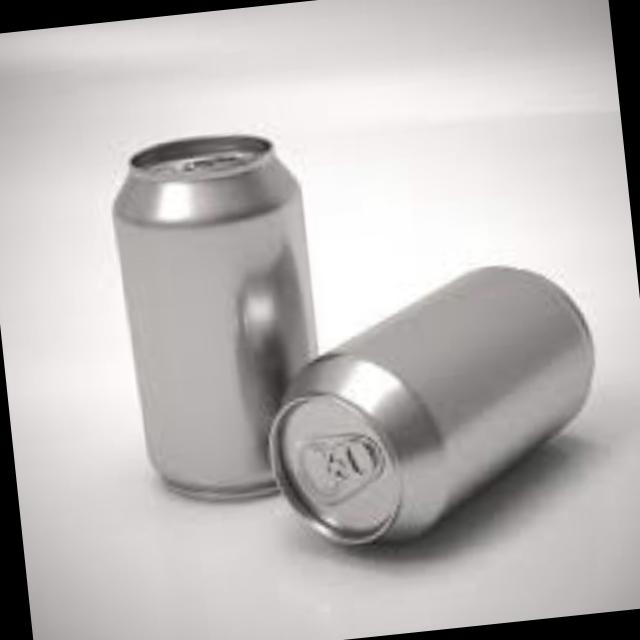metal: (264, 262, 587, 538), (109, 132, 309, 493)
